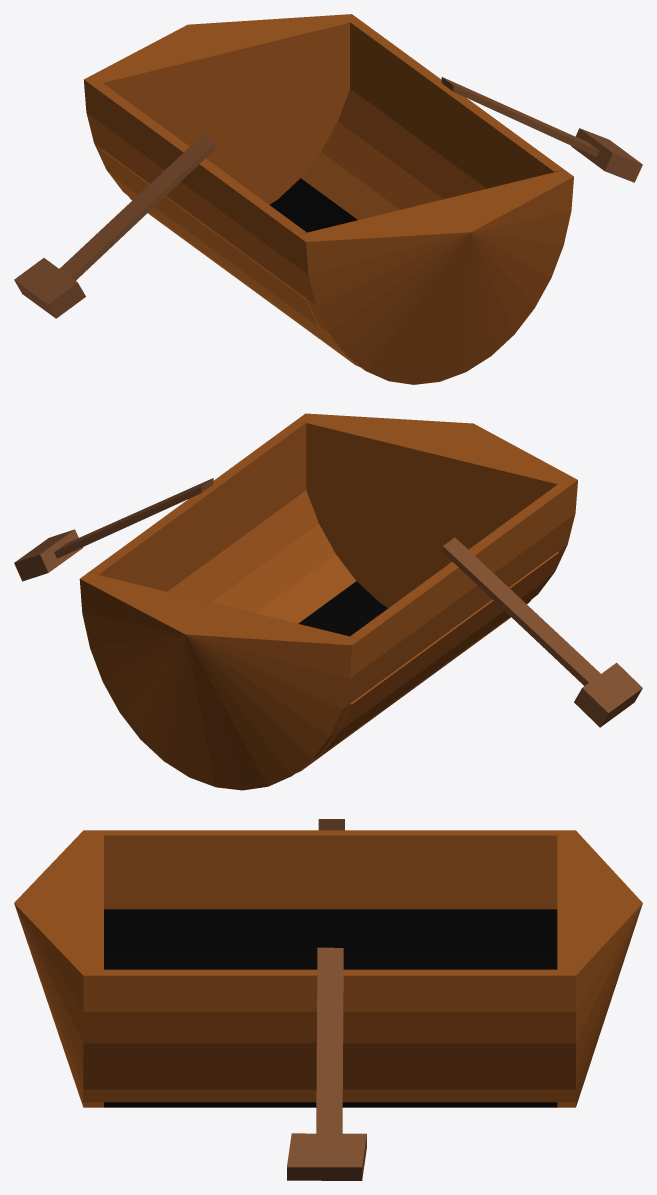
File: Canoe.dae
The picture shows the model from 3 angles, top to bottom: view 1: azimuth 30°, elevation 25°; view 2: azimuth 150°, elevation 25°; view 3: azimuth 270°, elevation 25°; orthographic projection. The views are drawn at different scales.
Visible parts, largest first — view 1: Cylinder, Cube.001, Cube; view 2: Cylinder, Cube.001, Cube; view 3: Cylinder, Cube.
Part boxes in pixels (bbox=[...]): Cylinder: bbox=[83, 14, 573, 384]; Cube.001: bbox=[14, 134, 214, 318]; Cube: bbox=[441, 77, 642, 182]; Cylinder: bbox=[79, 413, 577, 790]; Cube.001: bbox=[443, 537, 642, 727]; Cube: bbox=[14, 478, 213, 581]; Cylinder: bbox=[14, 830, 642, 1107]; Cube: bbox=[287, 947, 366, 1180].
Bounding box in the file's own units: 2.64 × 2.2 × 0.813.
